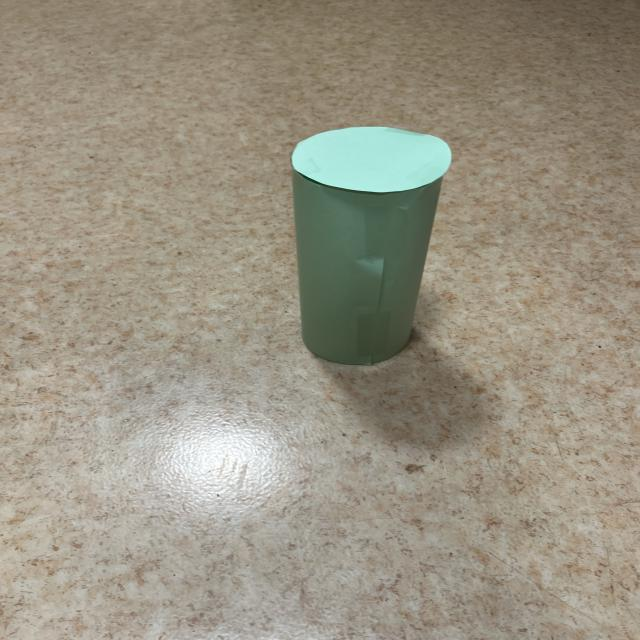meta: (291, 127, 451, 365)
